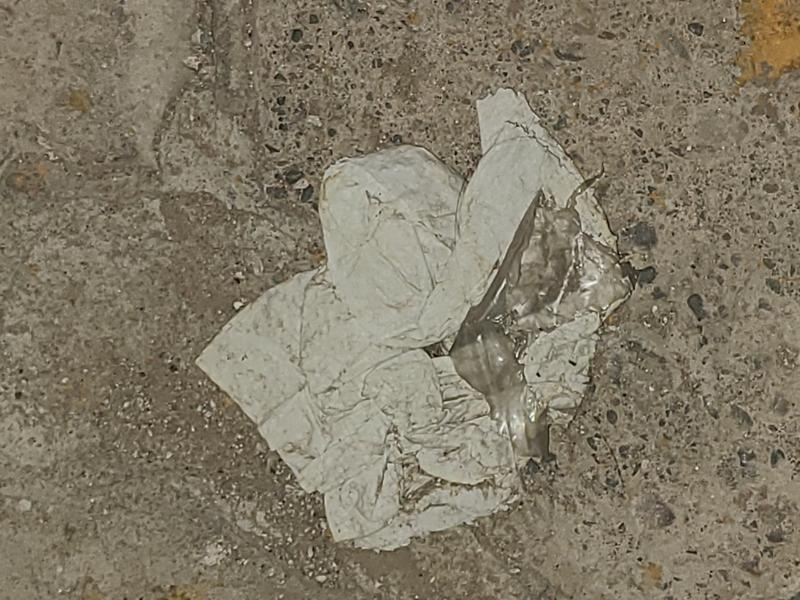papel: (194, 90, 623, 553)
